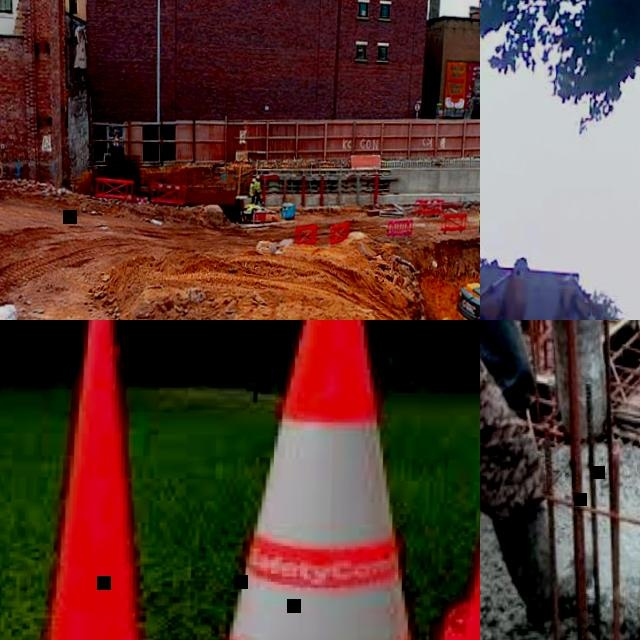Hardhat: (252, 177, 256, 183), (256, 175, 260, 179)
Person: (480, 320, 612, 640), (255, 175, 264, 206), (250, 177, 256, 204), (477, 202, 480, 234)
Safety Cone: (171, 320, 467, 640), (46, 320, 157, 640)
Safety Vest: (250, 183, 256, 197), (256, 181, 261, 190), (478, 208, 480, 223)
